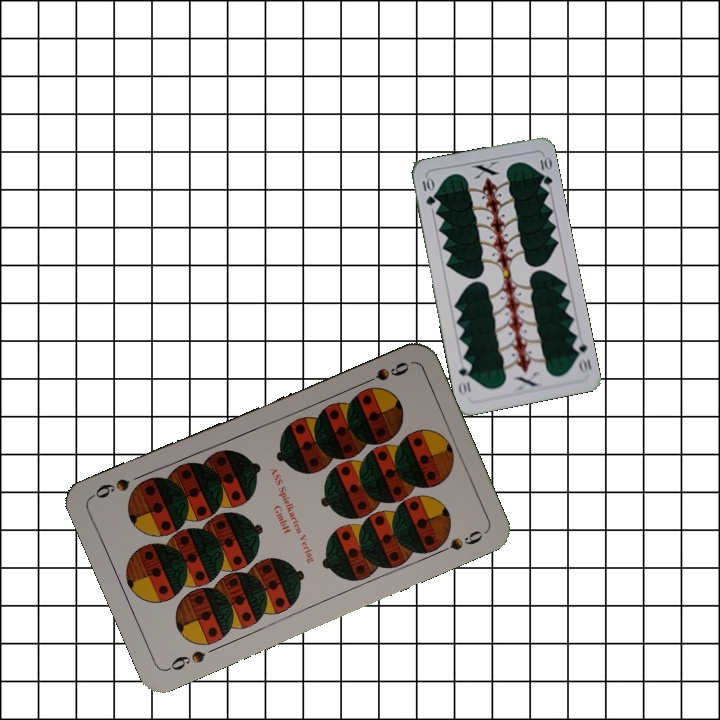G10: (569, 335, 595, 376), (418, 174, 438, 208)
S9: (356, 357, 412, 389), (163, 646, 208, 674)
